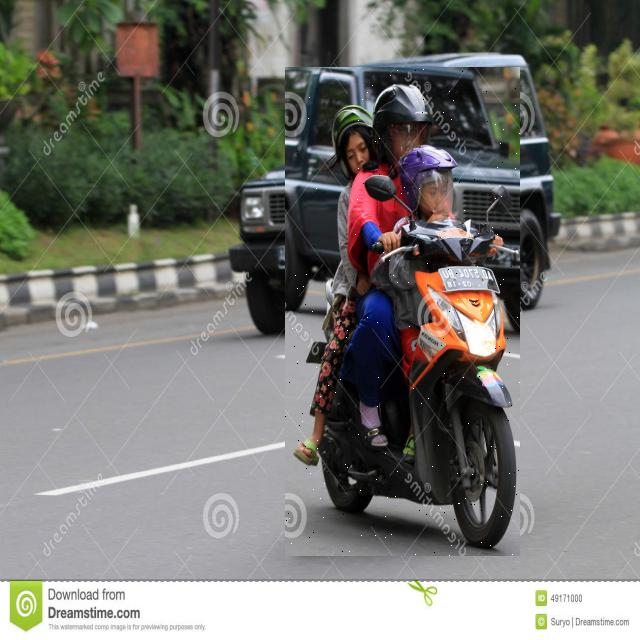With Helmet: (285, 67, 520, 556)
